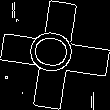O_E: (26, 30, 84, 80)
